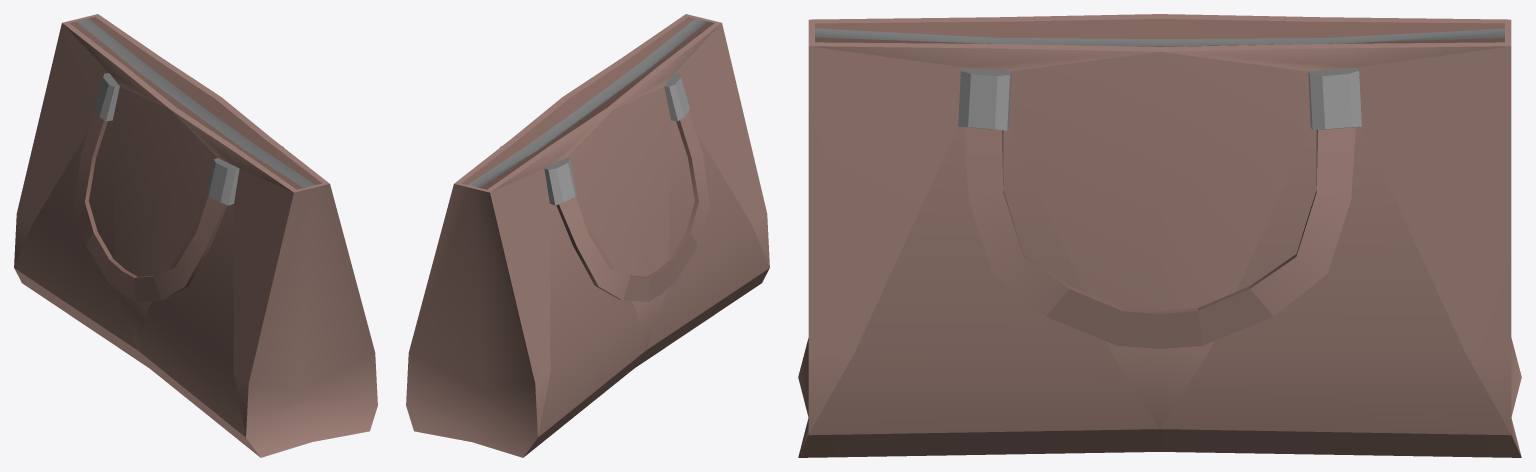
The model's file is handBag-Closed.fbx.
3 views of the same model, side by side, from view 1: azimuth 30°, elevation 25°; view 2: azimuth 150°, elevation 25°; view 3: azimuth 270°, elevation 25° (orthographic). The views are drawn at different scales.
Parts seen in each view (by area): view 1: handBag1, bagband1; view 2: handBag1, bagband1; view 3: handBag1, bagband1.
Boxes of the visible parts, box(x1,y1,x2,y2) form: handBag1: box(14, 14, 377, 457); bagband1: box(74, 112, 227, 301); handBag1: box(406, 14, 769, 457); bagband1: box(556, 112, 709, 301); handBag1: box(798, 14, 1521, 457); bagband1: box(964, 127, 1355, 348).
Bounding box in the file's own units: 2.1 × 3.43 × 5.85.
